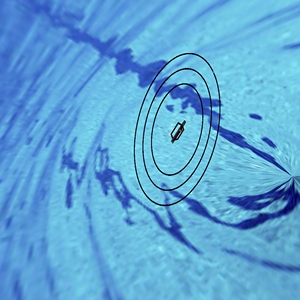circle: (118, 37, 237, 218)
submarine: (166, 115, 188, 153)
